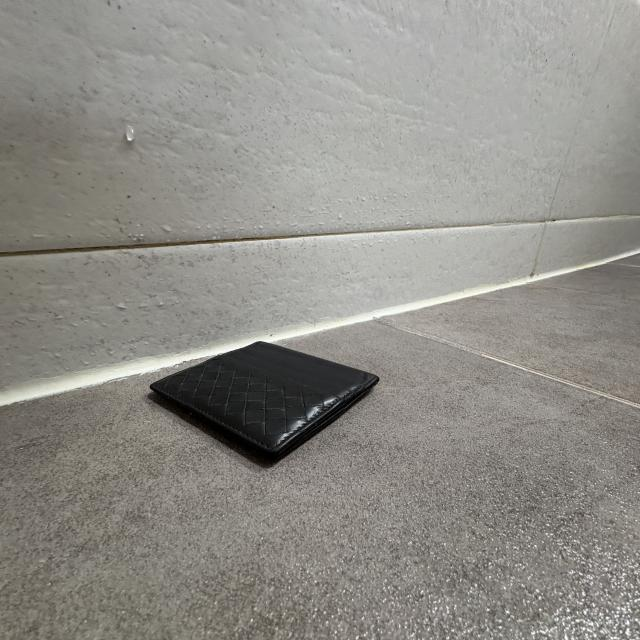wallet: (148, 341, 380, 472)
